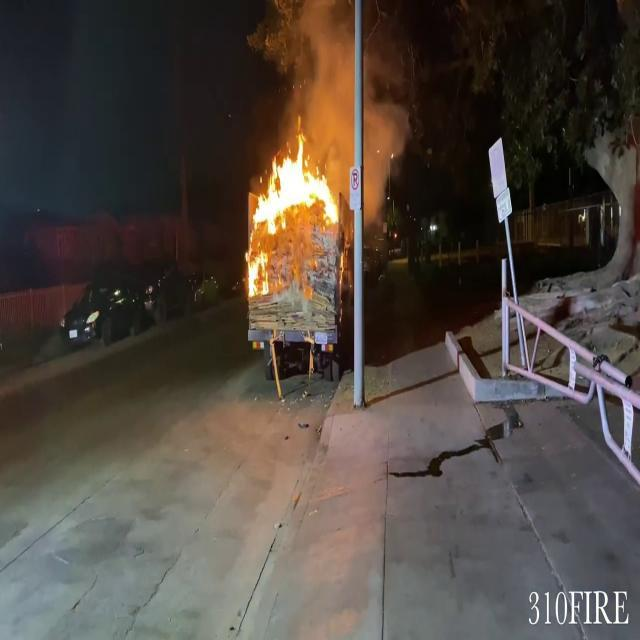Fire: (240, 126, 346, 294)
Smoke: (273, 0, 407, 213)
